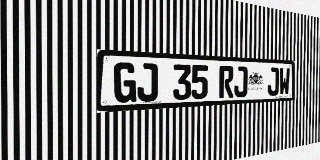3: (173, 64, 191, 100)
5: (192, 65, 208, 99)
G: (114, 62, 136, 103)
J: (137, 63, 158, 102), (234, 66, 248, 97), (267, 67, 279, 96)
R: (219, 66, 234, 98)
W: (279, 68, 290, 95)
